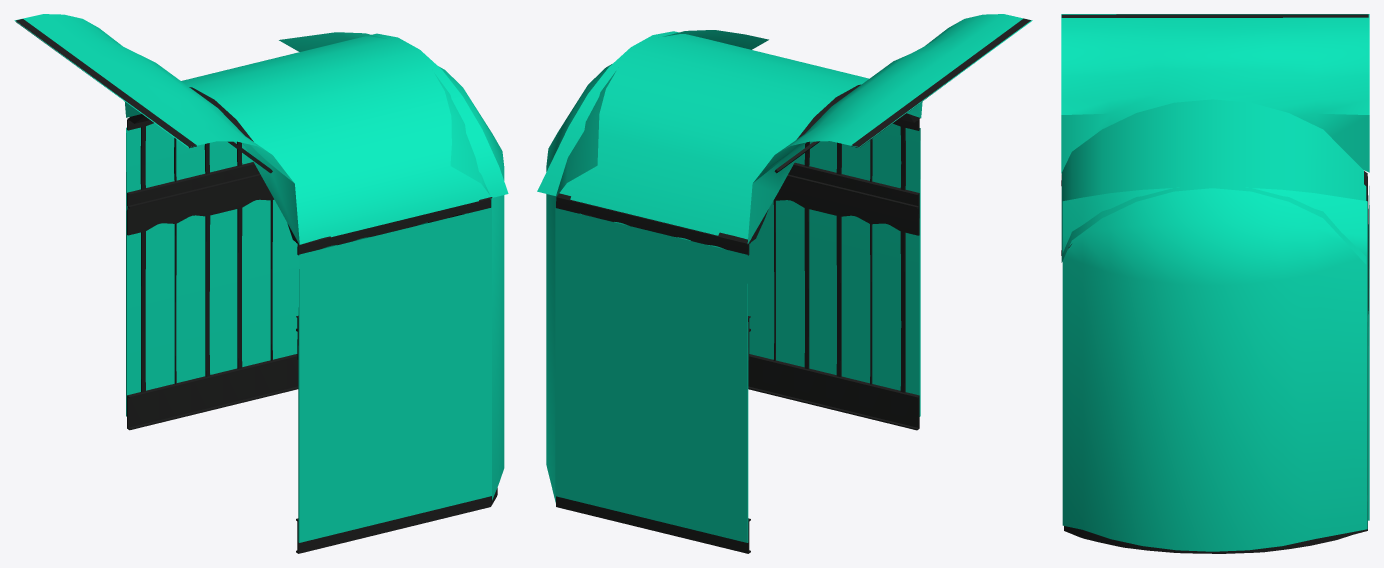
File: Gardenwall02.fbx
The picture shows the model from 3 angles, left to right: view 1: azimuth 30°, elevation 25°; view 2: azimuth 150°, elevation 25°; view 3: azimuth 270°, elevation 25°; orthographic projection. The views are drawn at different scales.
Visible parts, largest first — view 1: Gardenwall02; view 2: Gardenwall02; view 3: Gardenwall02.
Boxes of the visible parts, <box> form: Gardenwall02: <box>14,14,508,553</box>; Gardenwall02: <box>537,14,1032,553</box>; Gardenwall02: <box>1061,14,1369,553</box>.
Bounding box in the file's own units: 295 × 328 × 238.
